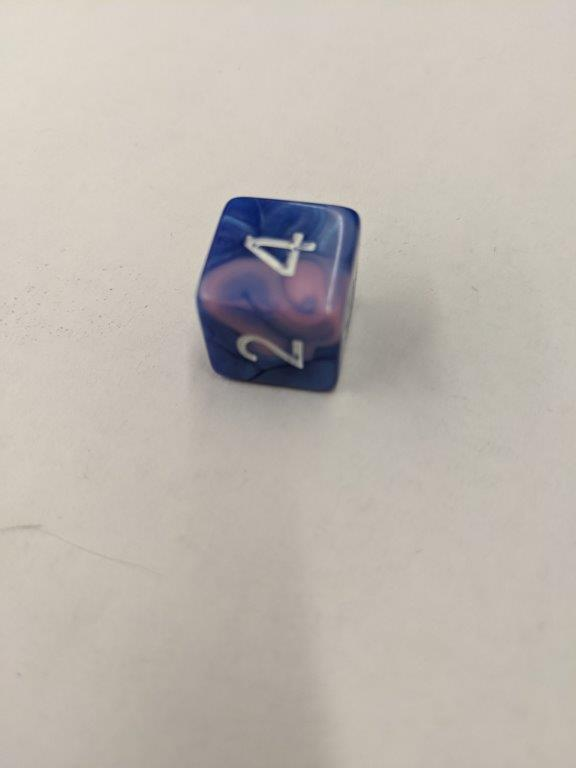d6-4: (194, 198, 360, 392)
